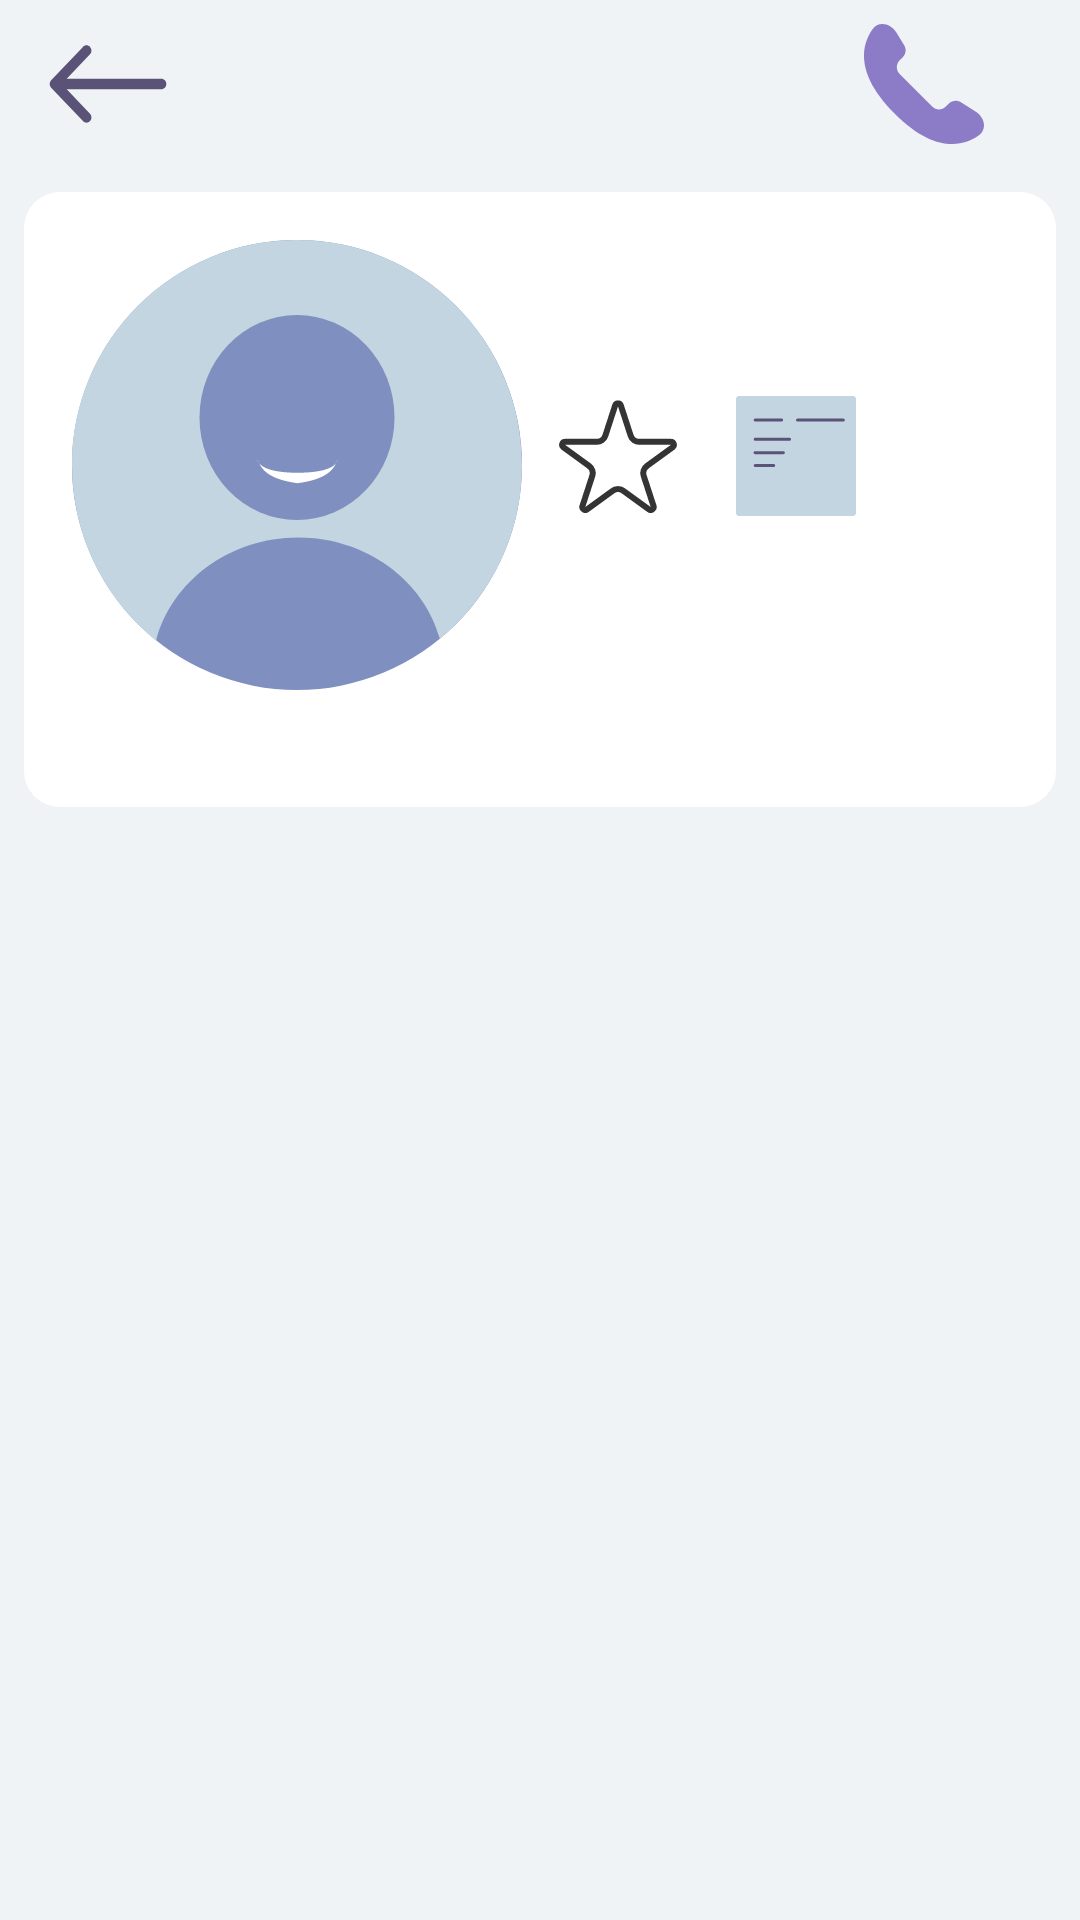

Point at icon controls on the screen. Image size 1080×1920, points as [x,y].
arrow: [108,84]
call: [924,84]
star stroke: [618,456]
